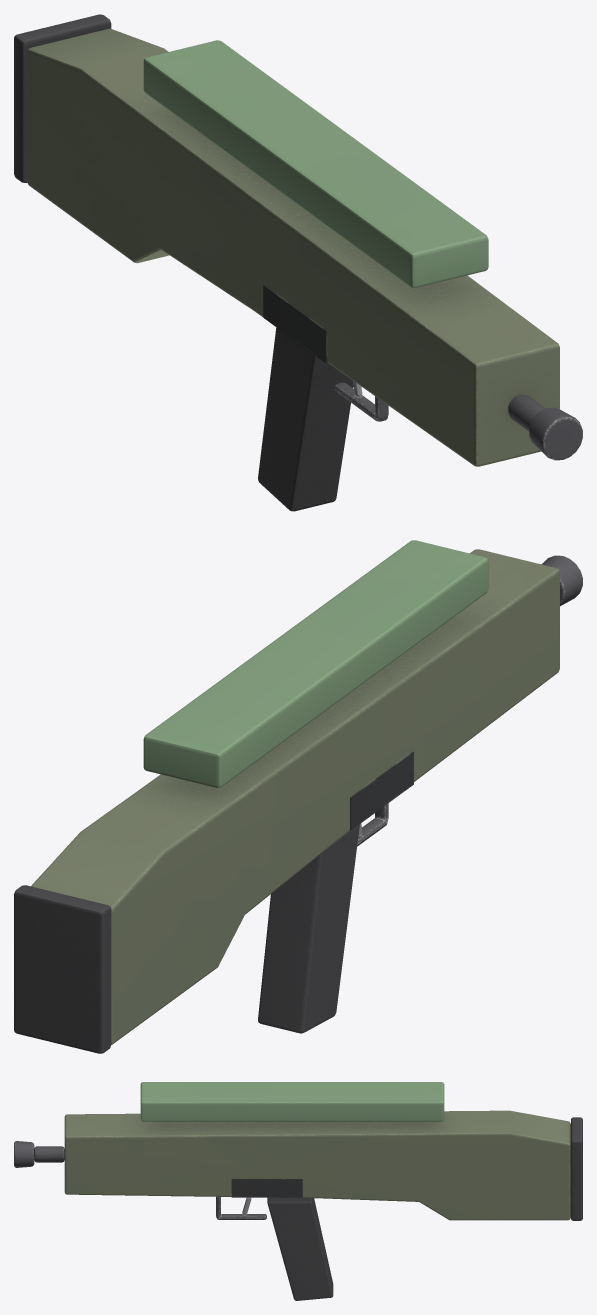
The picture shows the model from 3 angles, top to bottom: view 1: azimuth 30°, elevation 25°; view 2: azimuth 150°, elevation 25°; view 3: azimuth 270°, elevation 25°; orthographic projection. The views are drawn at different scales.
Visible parts, largest first — view 1: p90; view 2: p90; view 3: p90.
Part boxes in pixels (<box>): p90: <box>14,14,582,511</box>; p90: <box>14,540,582,1053</box>; p90: <box>14,1082,582,1300</box>.
Size of the model in its own units: 0.0578 by 0.2221 by 0.562.
